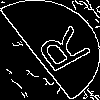R: (25, 25, 94, 80)
